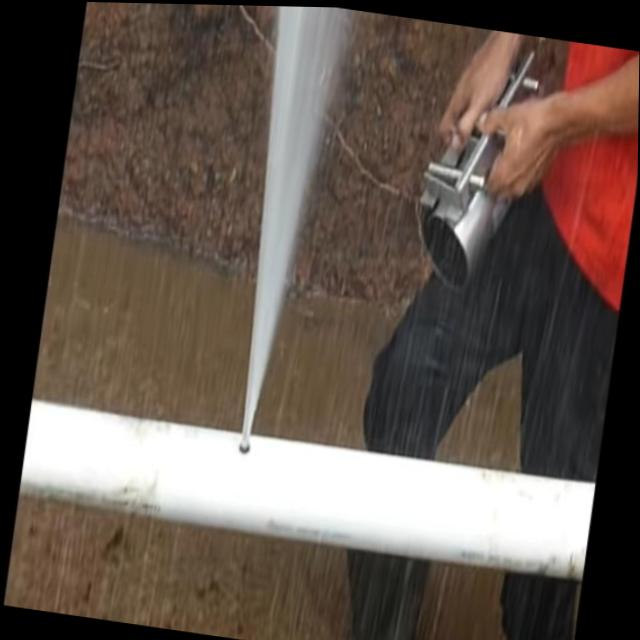leak: (227, 5, 408, 443)
